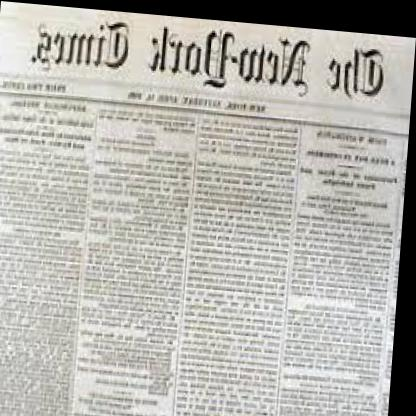Paper: (0, 10, 415, 416)
